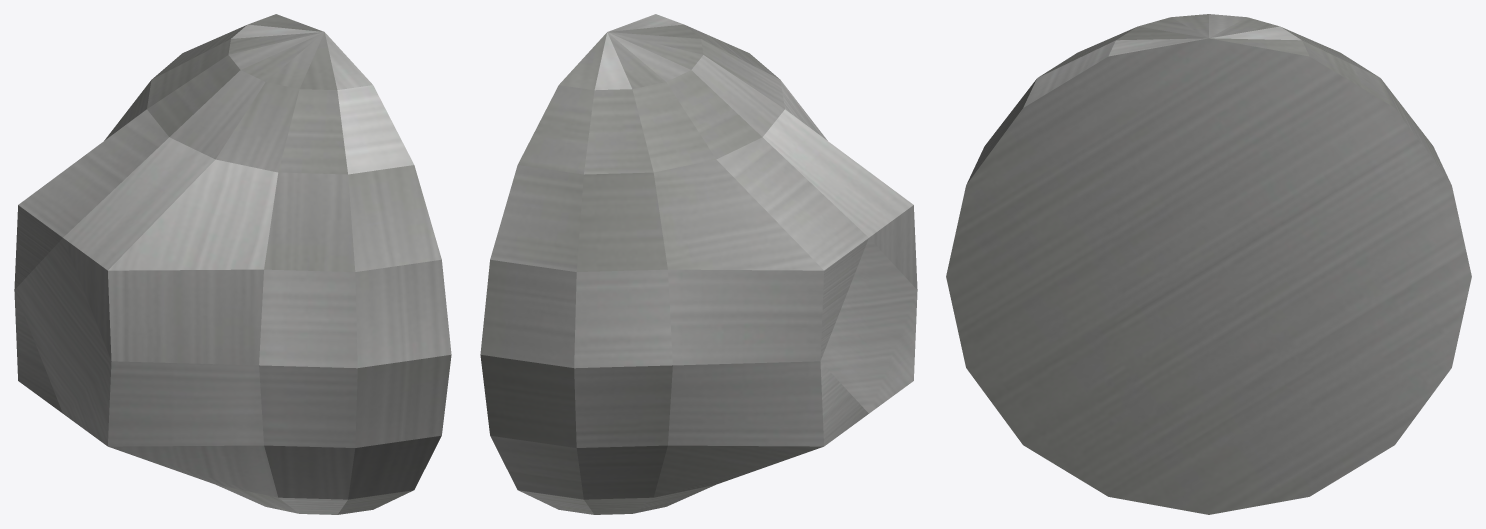
File: cupboardDoorRightHandle.gltf
The picture shows the model from 3 angles, left to right: view 1: azimuth 30°, elevation 25°; view 2: azimuth 150°, elevation 25°; view 3: azimuth 270°, elevation 25°; orthographic projection. The views are drawn at different scales.
Parts seen in each view (by area): view 1: Cube; view 2: Cube; view 3: Cube.
Boxes of the visible parts, x1,y1,x2,y2 form: Cube: (14,14,451,514); Cube: (480,14,917,514); Cube: (946,14,1471,514).
Size of the model in its own units: 0.2032 by 0.341 by 0.341.
Materials: 1 (1 with a texture image).
